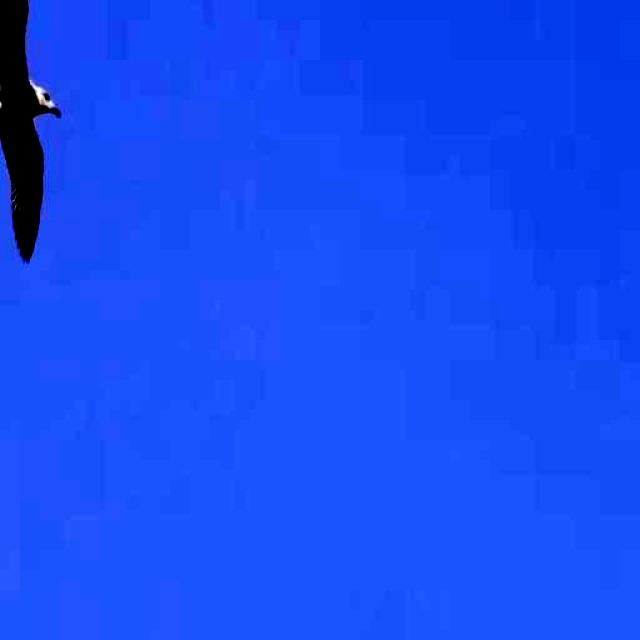airplane: (0, 0, 98, 296)
